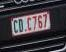0: (18, 18, 24, 32)
6: (37, 14, 43, 29)
7: (32, 15, 38, 31), (42, 13, 48, 28)
C: (26, 16, 33, 31), (13, 19, 19, 34)
